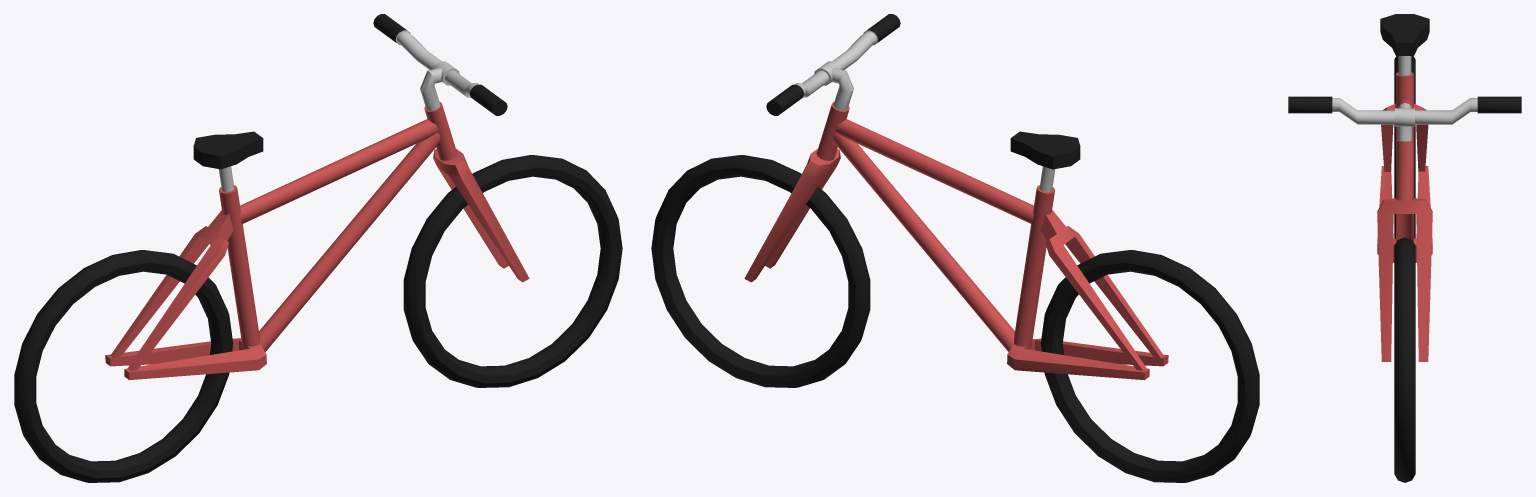
The model's file is Cykel1.fbx.
3 renders of one model, left to right at view 1: azimuth 30°, elevation 25°; view 2: azimuth 150°, elevation 25°; view 3: azimuth 270°, elevation 25°, orthographic.
Visible parts, largest first — view 1: Torus, Torus_1, Cylinder_1, Cube_2, Cylinder_2, Cube_1, Cube, Cylinder, Cylinder_4, Cube_3, Cylinder_3; view 2: Torus, Torus_1, Cylinder_1, Cube_2, Cube_1, Cylinder_2, Cylinder, Cube, Cylinder_4, Cube_3, Cylinder_3; view 3: Torus, Cube, Cylinder_4, Cube_3, Cylinder_3, Cube_2, Cube_1, Cylinder, Torus_1, Cylinder_1.
Boxes of the visible parts, x1,y1,x2,y2 form: Torus: [403, 155, 622, 387]; Torus_1: [14, 250, 233, 482]; Cylinder_1: [259, 132, 440, 352]; Cube_2: [110, 210, 233, 370]; Cylinder_2: [240, 119, 438, 223]; Cube_1: [105, 338, 266, 379]; Cube: [433, 148, 529, 282]; Cylinder: [218, 166, 259, 349]; Cylinder_4: [373, 14, 507, 115]; Cube_3: [193, 131, 263, 169]; Cylinder_3: [420, 67, 457, 160]; Torus: [651, 155, 870, 387]; Torus_1: [1040, 250, 1259, 482]; Cylinder_1: [833, 132, 1014, 352]; Cube_2: [1041, 210, 1163, 370]; Cube_1: [1007, 338, 1168, 380]; Cylinder_2: [835, 119, 1033, 223]; Cylinder: [1014, 166, 1055, 349]; Cube: [744, 148, 840, 282]; Cylinder_4: [766, 14, 900, 115]; Cube_3: [1010, 131, 1080, 169]; Cylinder_3: [816, 67, 853, 160]; Torus: [1394, 237, 1415, 482]; Cube: [1377, 198, 1432, 361]; Cylinder_4: [1288, 96, 1521, 126]; Cube_3: [1380, 14, 1429, 55]; Cylinder_3: [1396, 103, 1413, 200]; Cube_2: [1381, 102, 1428, 172]; Cube_1: [1377, 166, 1432, 262]; Cylinder: [1396, 56, 1413, 236]; Torus_1: [1394, 56, 1415, 238]; Cylinder_1: [1396, 214, 1413, 242].
Size of the model in its own units: 1126 by 614 by 383.
